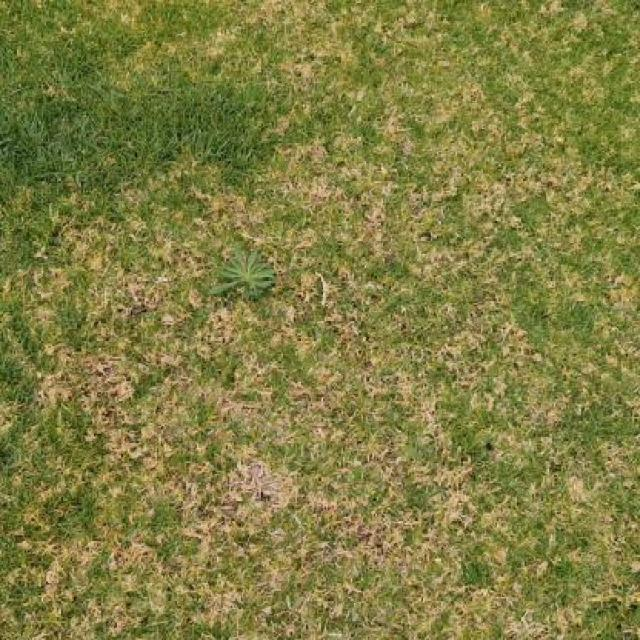weed: (209, 251, 275, 299)
